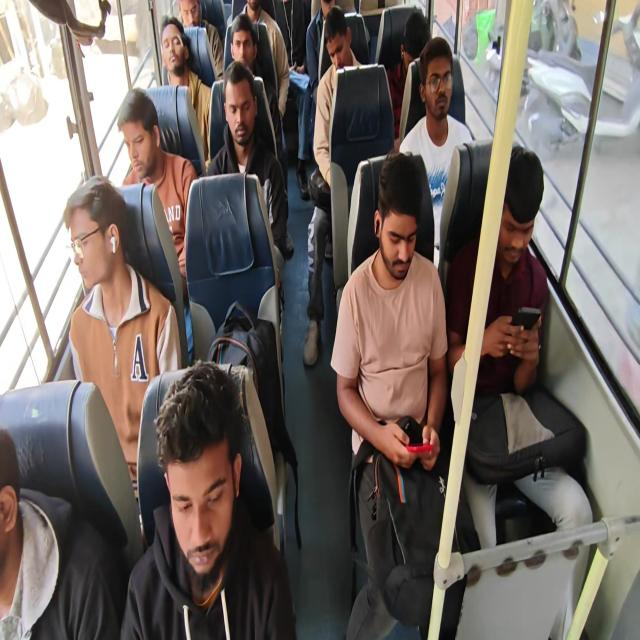person: (330, 150, 481, 638), (446, 143, 593, 556), (119, 359, 297, 639), (63, 175, 182, 522), (0, 426, 124, 639), (302, 6, 363, 366), (206, 60, 292, 262), (398, 36, 474, 263), (117, 87, 197, 301), (0, 427, 60, 639), (158, 15, 212, 161), (232, 0, 290, 120), (386, 10, 430, 142), (176, 0, 224, 80), (264, 0, 312, 74), (306, 0, 335, 101)
